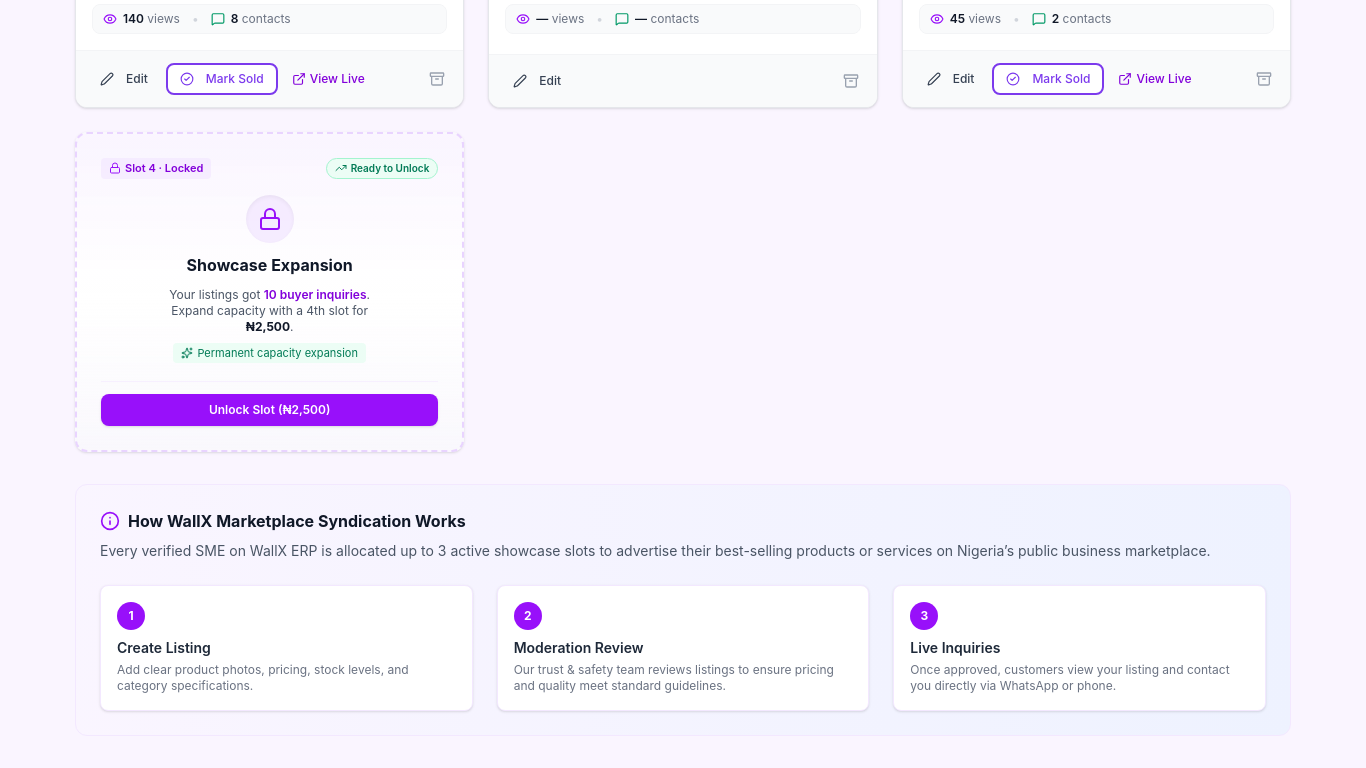
Test case: Phase 12: Merchant Slot UI & Upsell Suite › Inventory Page Dynamic Slot Allowance & Edge Cases › instant reactive slot unlock: buying slot 4 increases allowance to 4 without page reload
(page scrolled)
Click "Unlock Slot (₦2,500)" to open PurchaseSlotModal
Click the button "Unlock Slot (₦2,500)": click(270, 410) [101, 394, 438, 426]
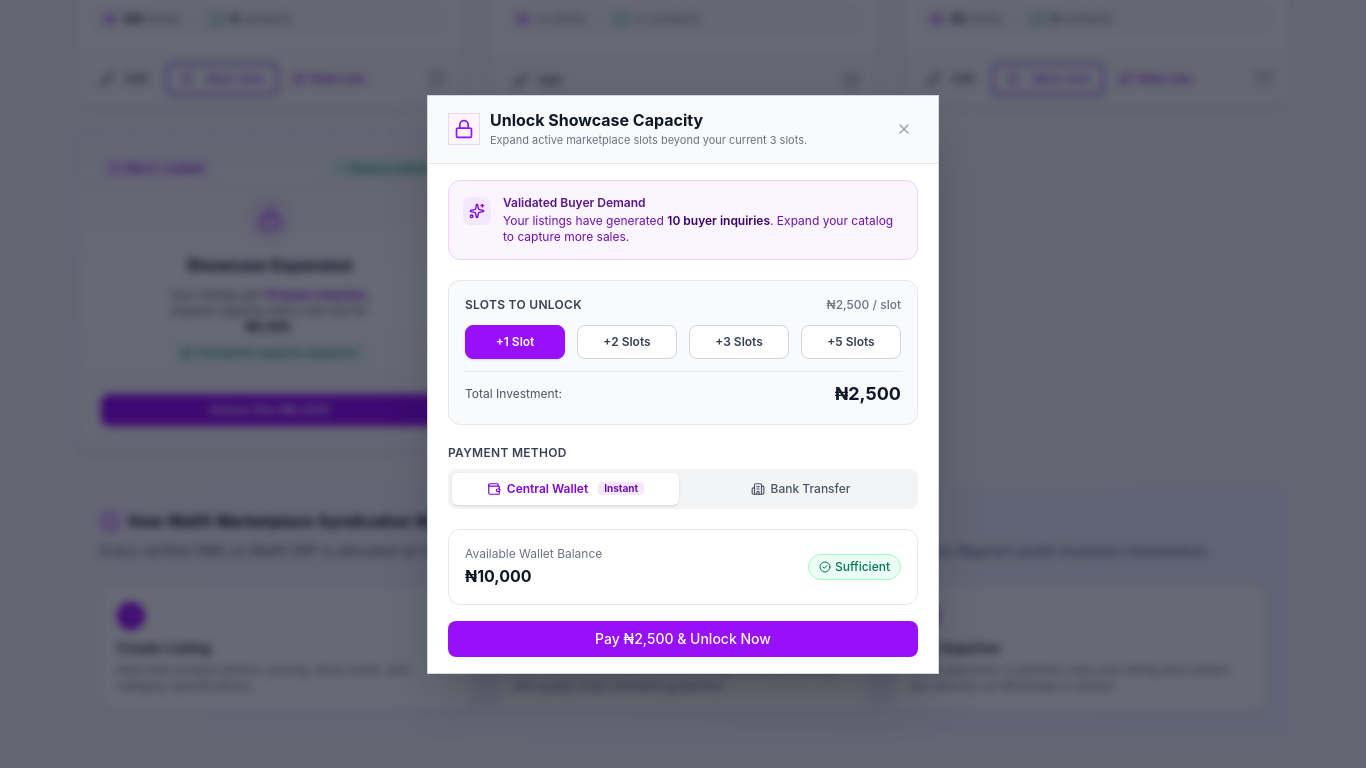
Expected: the heading "Unlock Showcase Capacity" is shown, [490, 110, 703, 130]
Expected: the text "Central Wallet" is shown, [507, 480, 588, 496]
Expected: the button "Pay ₦2,500 & Unlock Now" is enabled
Click the button "Pay ₦2,500 & Unlock Now": click(683, 638) [448, 620, 918, 656]
(page scrolled)
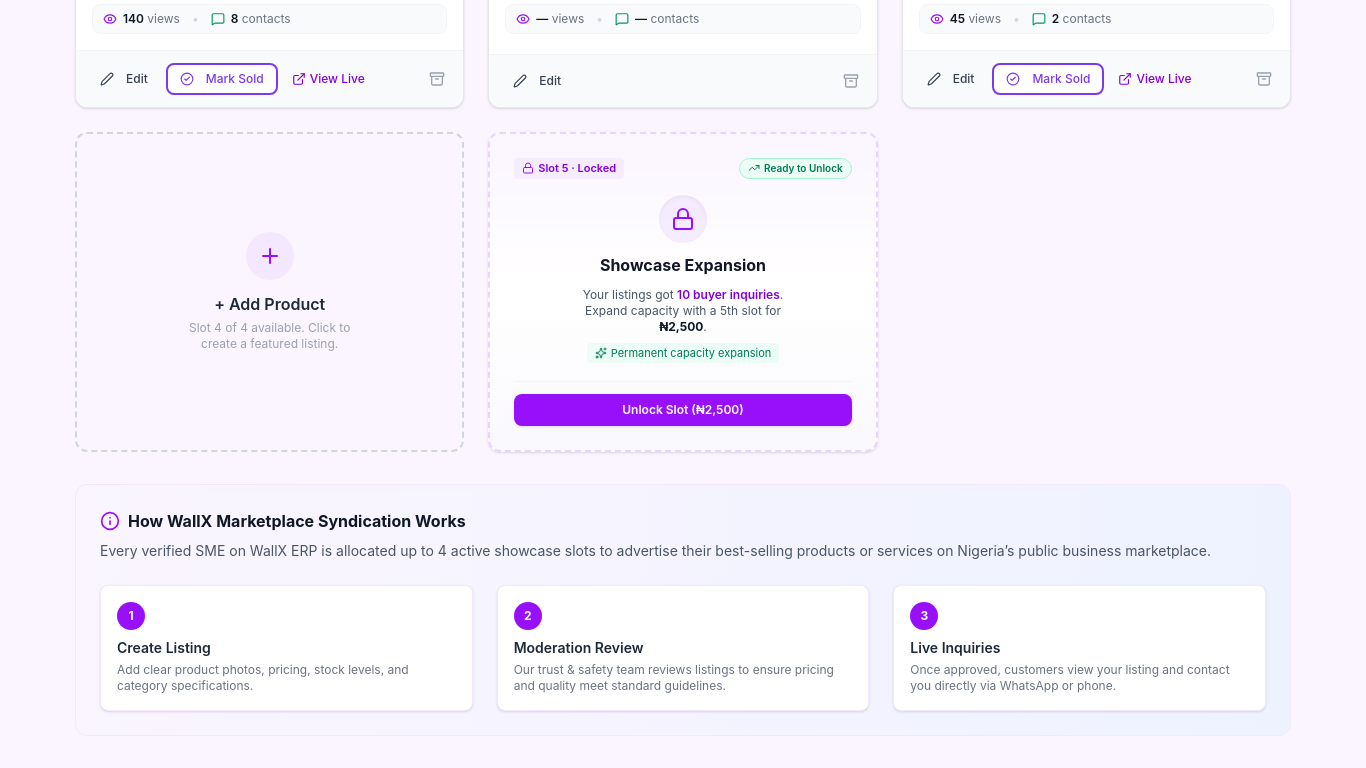
Expected: the text "Slot 4 of 4 available. Click to create a featured listing." is shown, [189, 320, 350, 351]
Expected: the text "Slot 5 · Locked" is shown, [514, 158, 624, 179]
